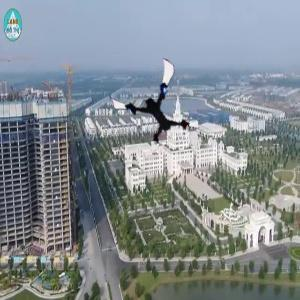drone: (112, 66, 195, 149)
